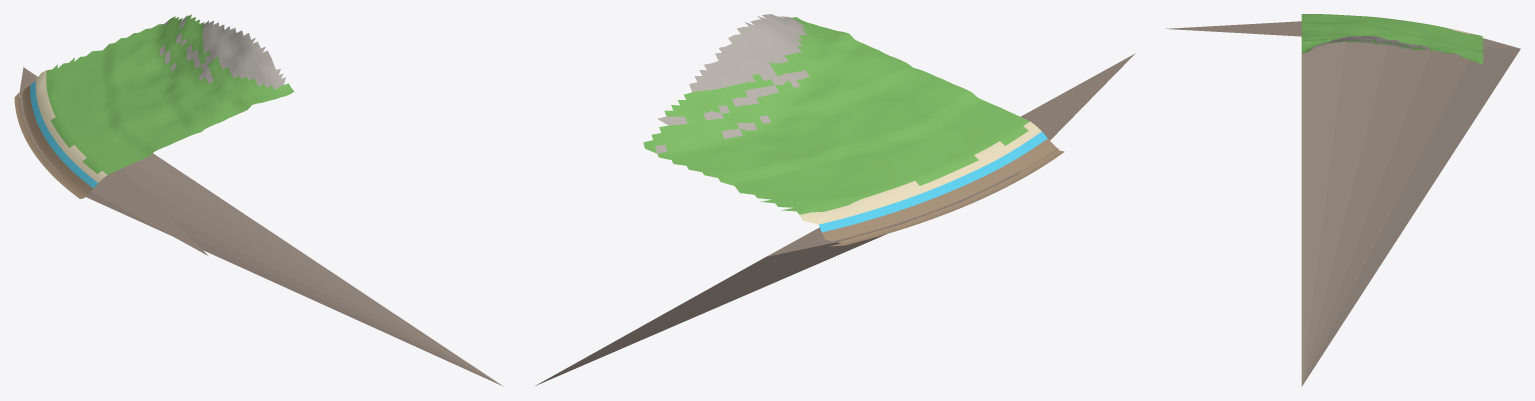
File: flagship_terrain_02.glb
3 views of the same model, side by side, from view 1: azimuth 30°, elevation 25°; view 2: azimuth 150°, elevation 25°; view 3: azimuth 270°, elevation 25° (orthographic). The views are drawn at different scales.
Parts seen in each view (by area): view 1: Terrain_02; view 2: Terrain_02; view 3: Terrain_02.
Boxes of the visible parts, bbox=[...] form: Terrain_02: bbox=[14, 14, 503, 386]; Terrain_02: bbox=[534, 14, 1135, 386]; Terrain_02: bbox=[1165, 14, 1520, 386].
Size of the model in its own units: 121 by 101 by 119.
